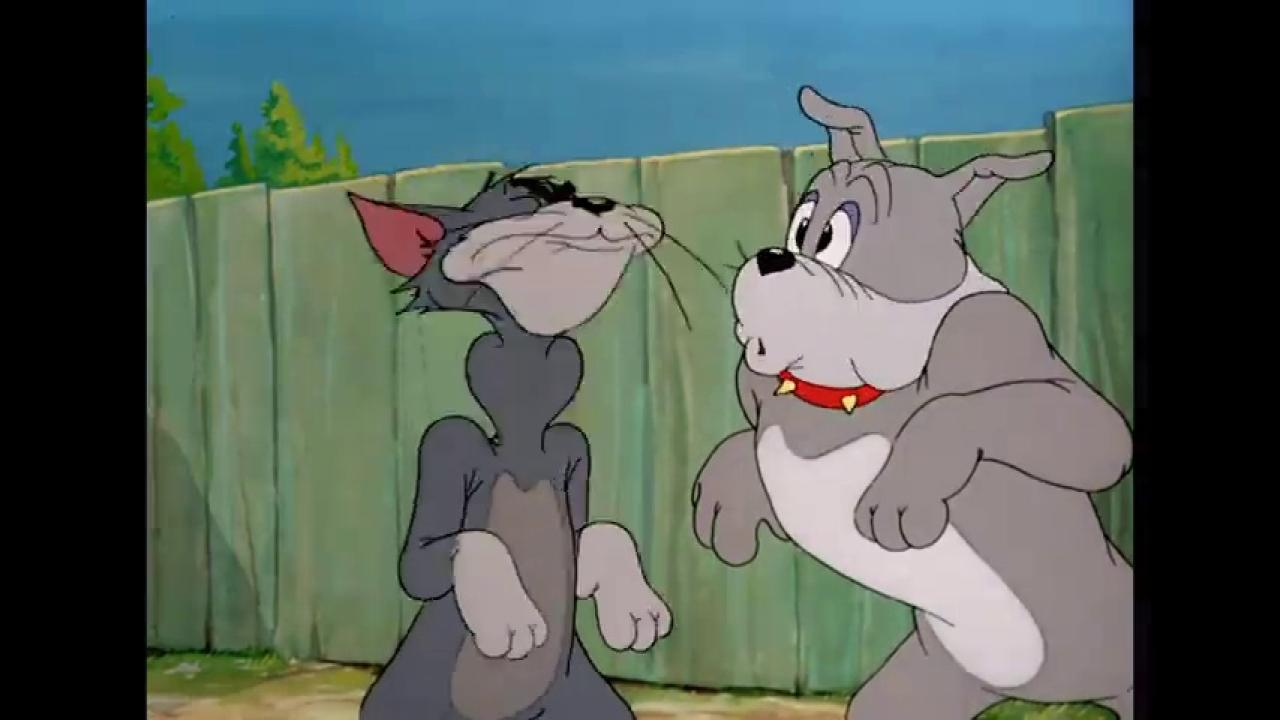Tom: (344, 162, 677, 720)
